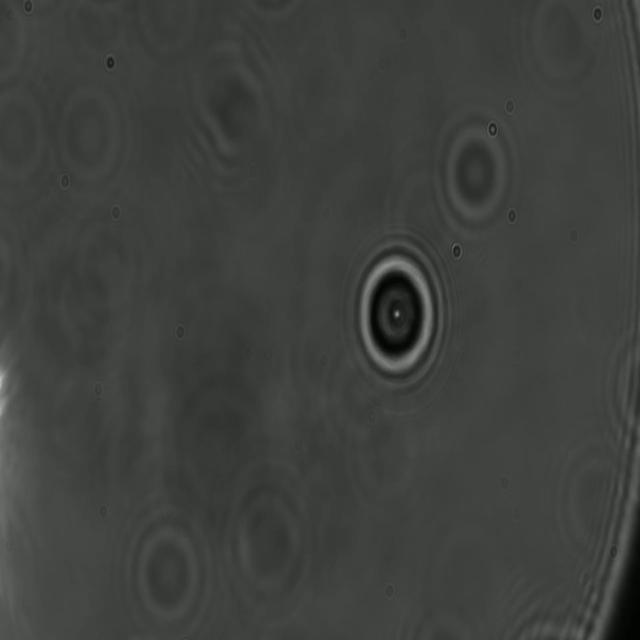LCELL: (346, 238, 450, 396)
